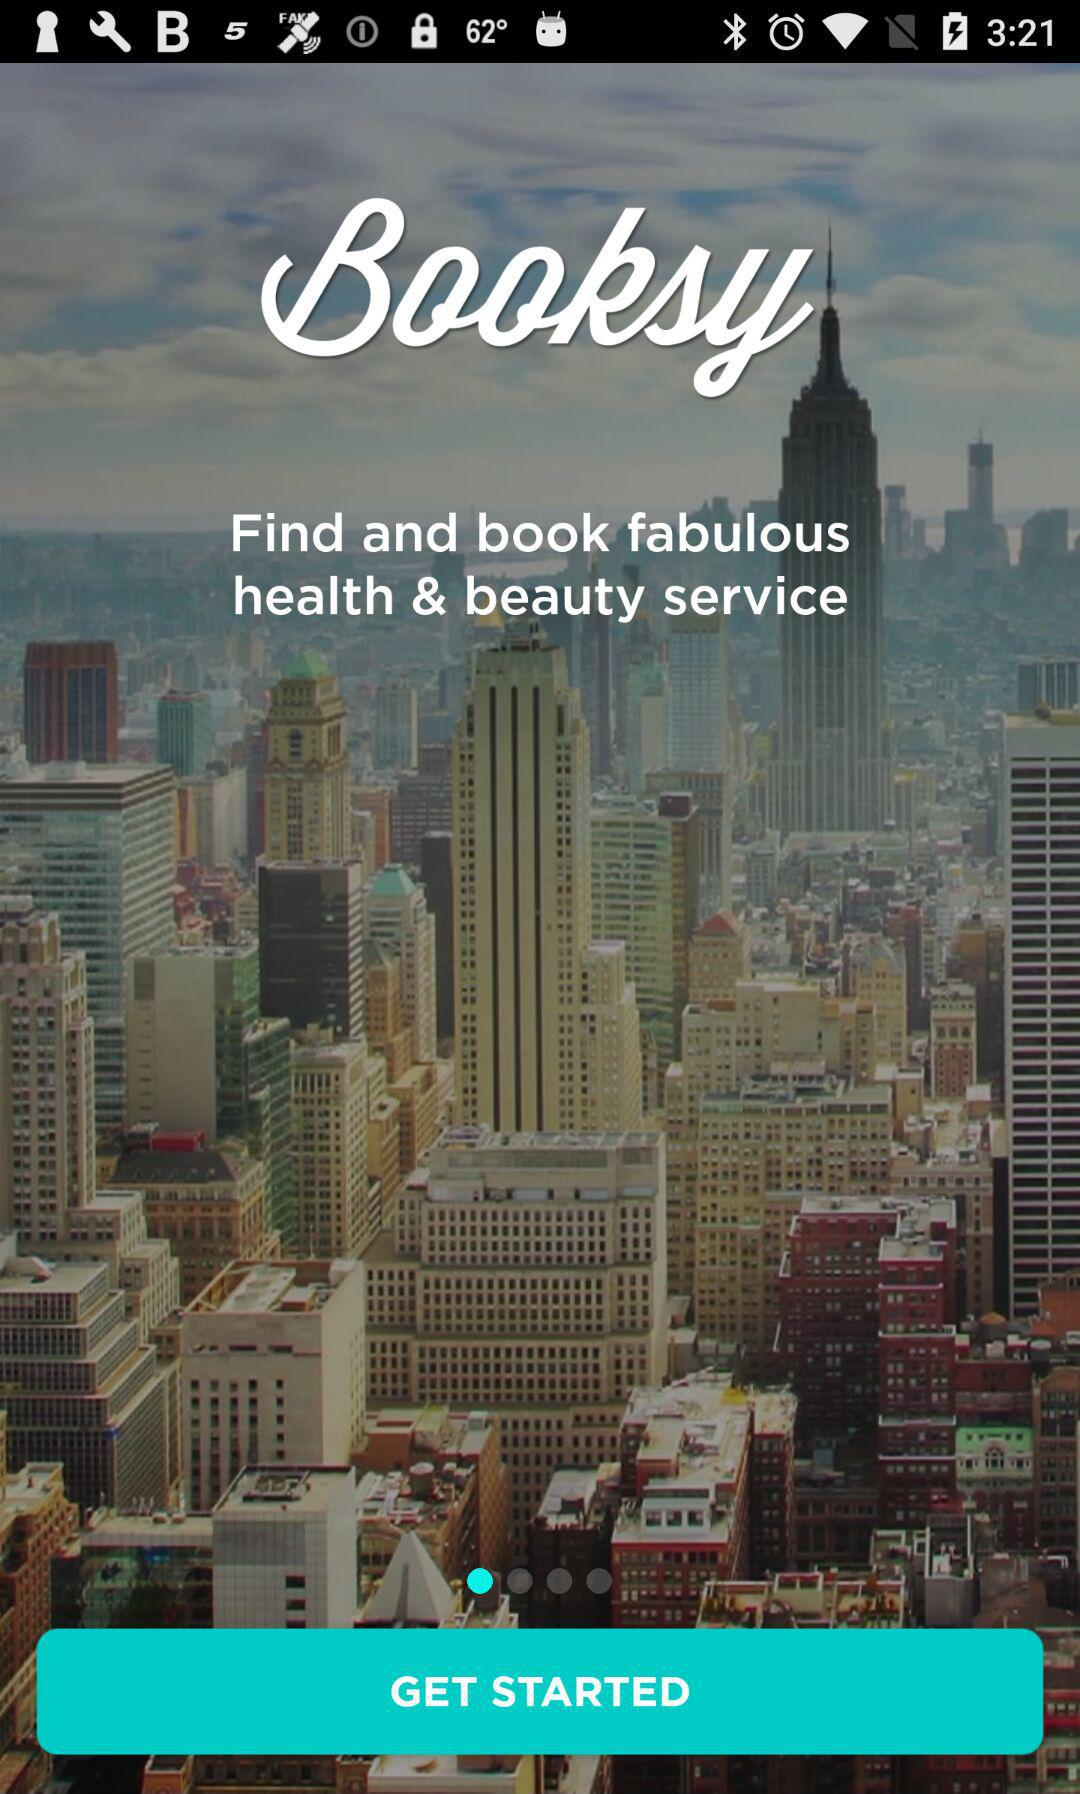BackgroundImage: (1, 64, 1080, 1794)
Image: (259, 197, 817, 400)
PageIndicator: (466, 1567, 614, 1595)
Text: (232, 511, 849, 627)
TextButton: (36, 1627, 1044, 1756)
UpperTaskBar: (1, 1, 1080, 64)
